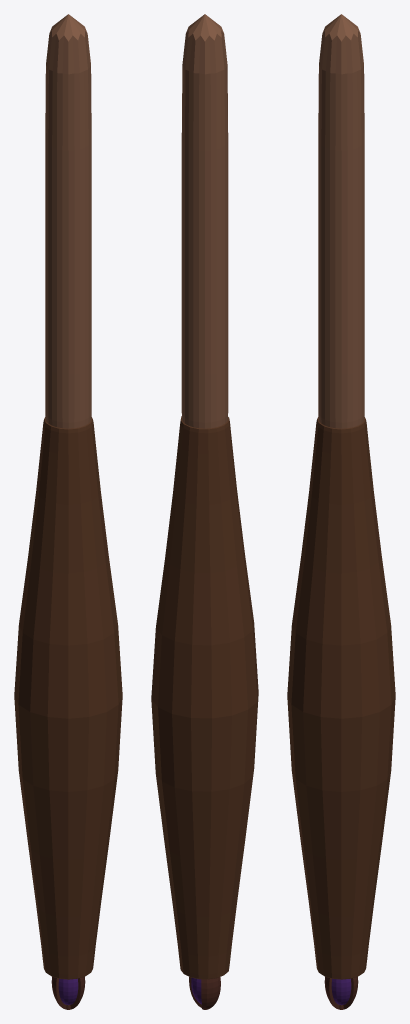
File: Wand 117.glb
3 views of the same model, side by side, from view 1: azimuth 90°, elevation 25°; view 2: azimuth 210°, elevation 25°; view 3: azimuth 270°, elevation 25° (orthographic).
Visible parts, largest first — view 1: GeneratedWand; view 2: GeneratedWand; view 3: GeneratedWand.
Part boxes in pixels (bbox=[...]): GeneratedWand: bbox=[14, 14, 122, 1009]; GeneratedWand: bbox=[151, 14, 258, 1009]; GeneratedWand: bbox=[287, 14, 395, 1009].
Size of the model in its own units: 0.0499 by 0.5046 by 0.0499.
